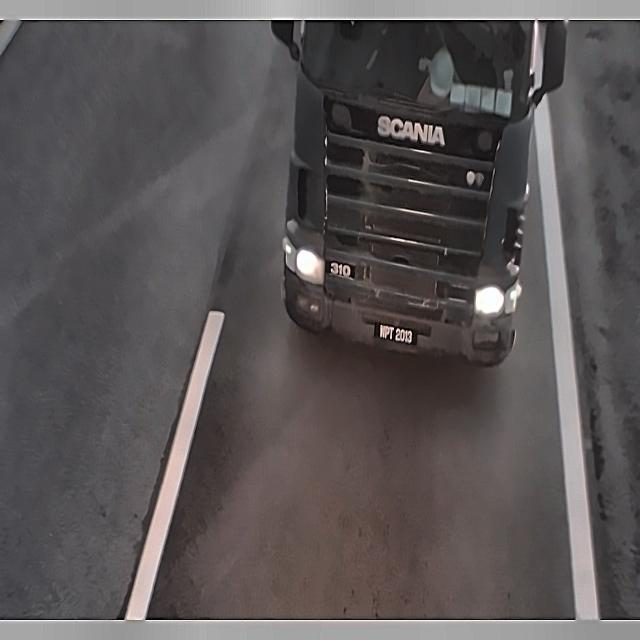car: (373, 306, 423, 359)
